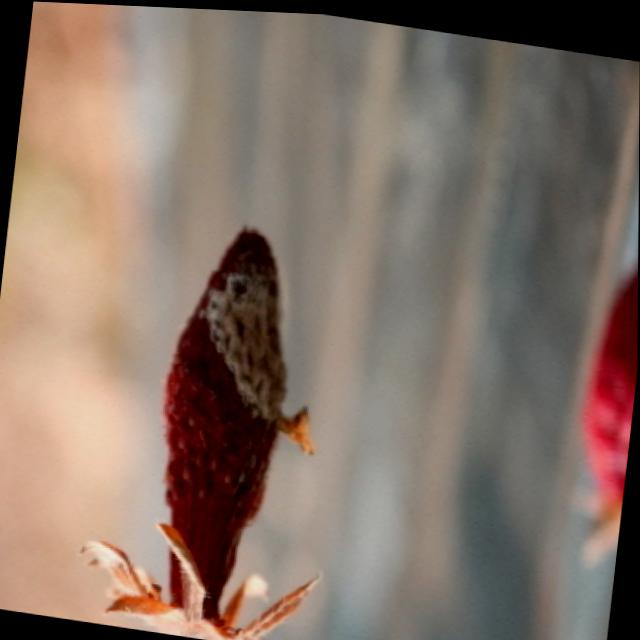Gray Mold: (80, 224, 325, 640)
